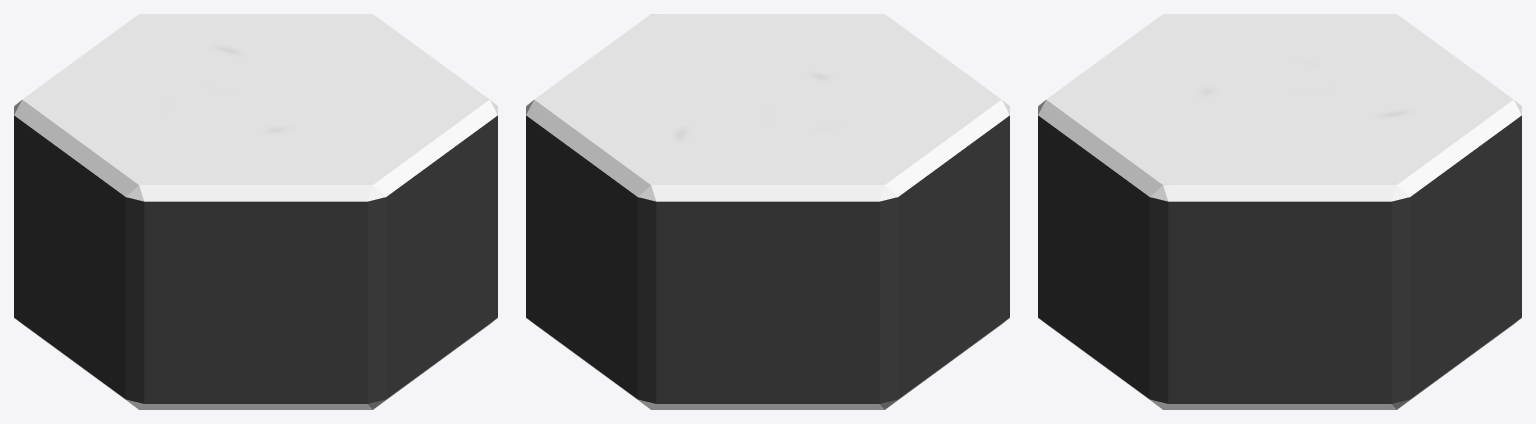
Rendered from BaseHex_White.fbx.
3 views of the same model, side by side, from view 1: azimuth 30°, elevation 25°; view 2: azimuth 150°, elevation 25°; view 3: azimuth 270°, elevation 25° (orthographic).
Parts seen in each view (by area): view 1: 07.White; view 2: 07.White; view 3: 07.White.
Part boxes in pixels (x1,y1,x2,y2): 07.White: (14, 14, 497, 409); 07.White: (526, 14, 1009, 409); 07.White: (1038, 14, 1521, 409).
Bounding box in the file's own units: 173 × 100 × 195.
1 material, 1 textured.
